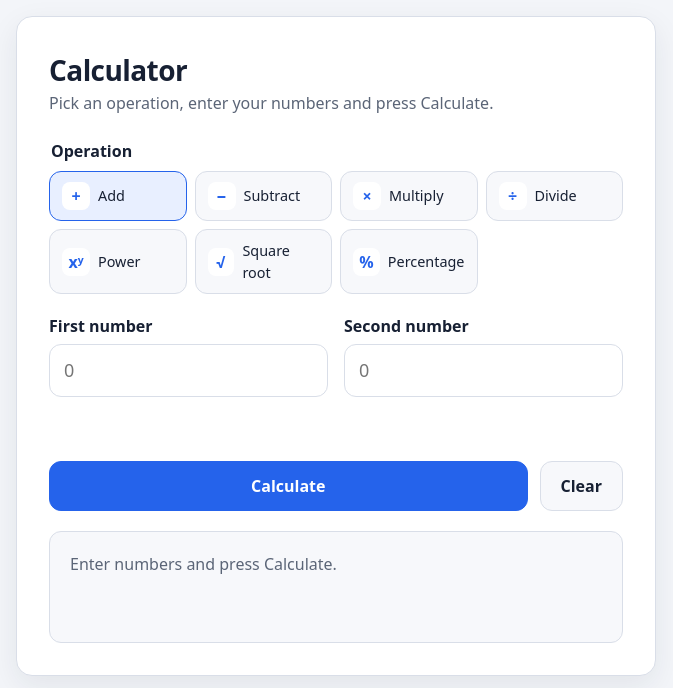
Calculator › adds two numbers through the API and shows the result
Type "2" into the field labelled "First number" at [188, 371], box [49, 344, 328, 397]
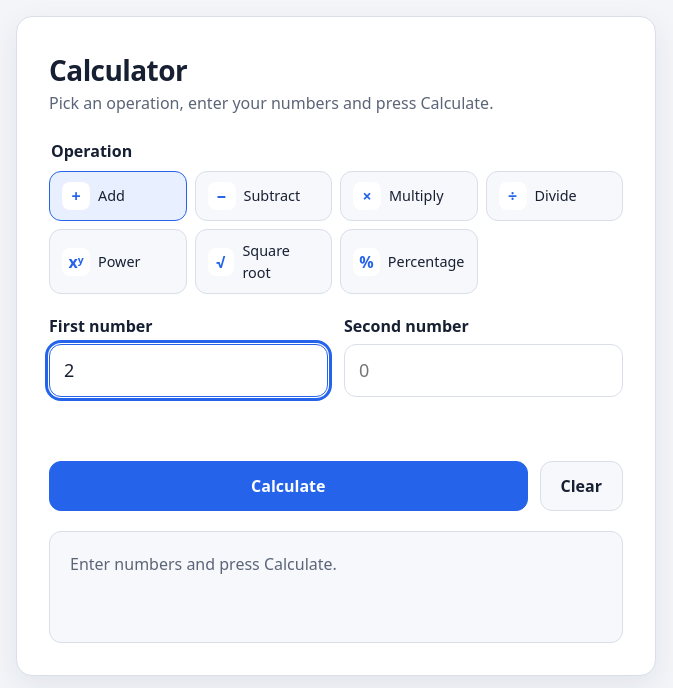
Type "3" into the field labelled "Second number" at [484, 371], box [344, 344, 623, 397]
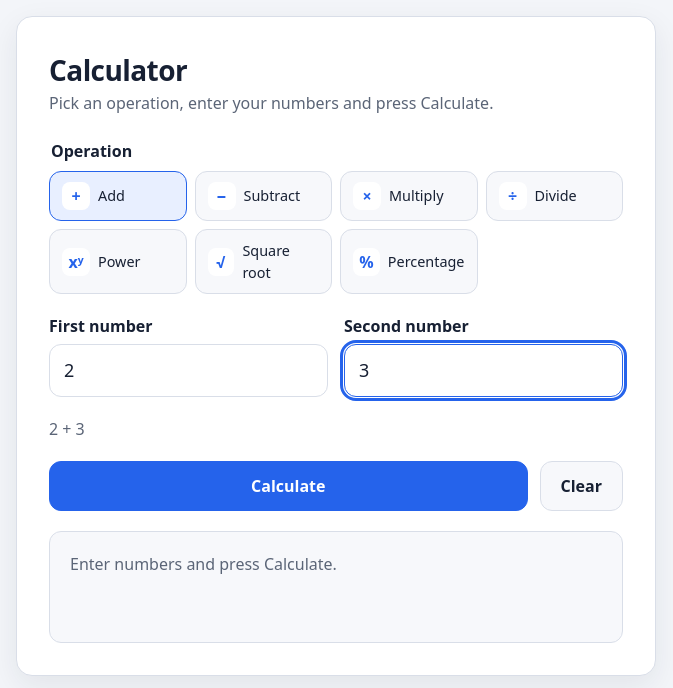
Click the button "Calculate" at [288, 486], box [49, 461, 528, 511]
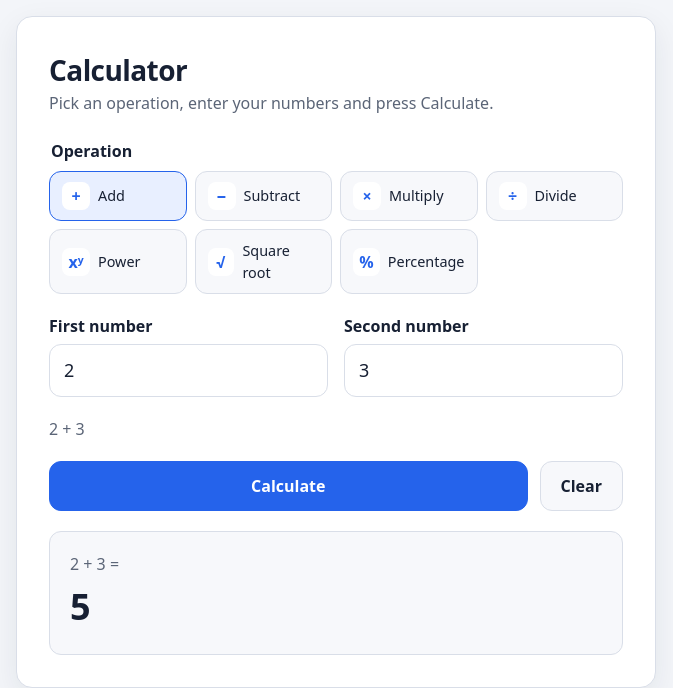
Now the text "5" is shown, box [70, 582, 91, 631]
Now the text "2 + 3 =" is shown, box [70, 553, 119, 575]
